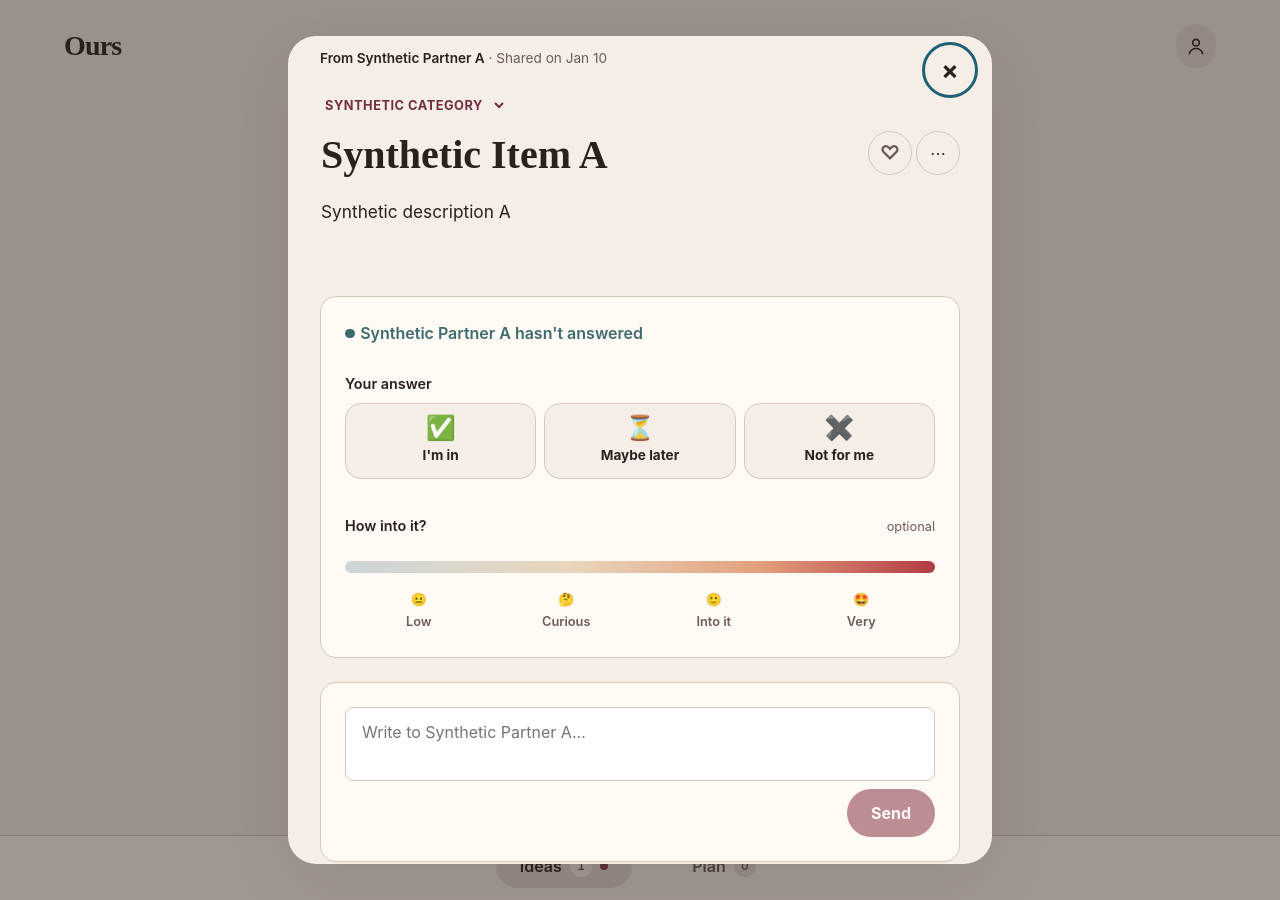
Test: header › offers the partner Remix but not Delete
What coordinates should you click on to do the following:
click the button named "More actions"
I would click on:
 (938, 153)
Its box is [916,131,960,175].
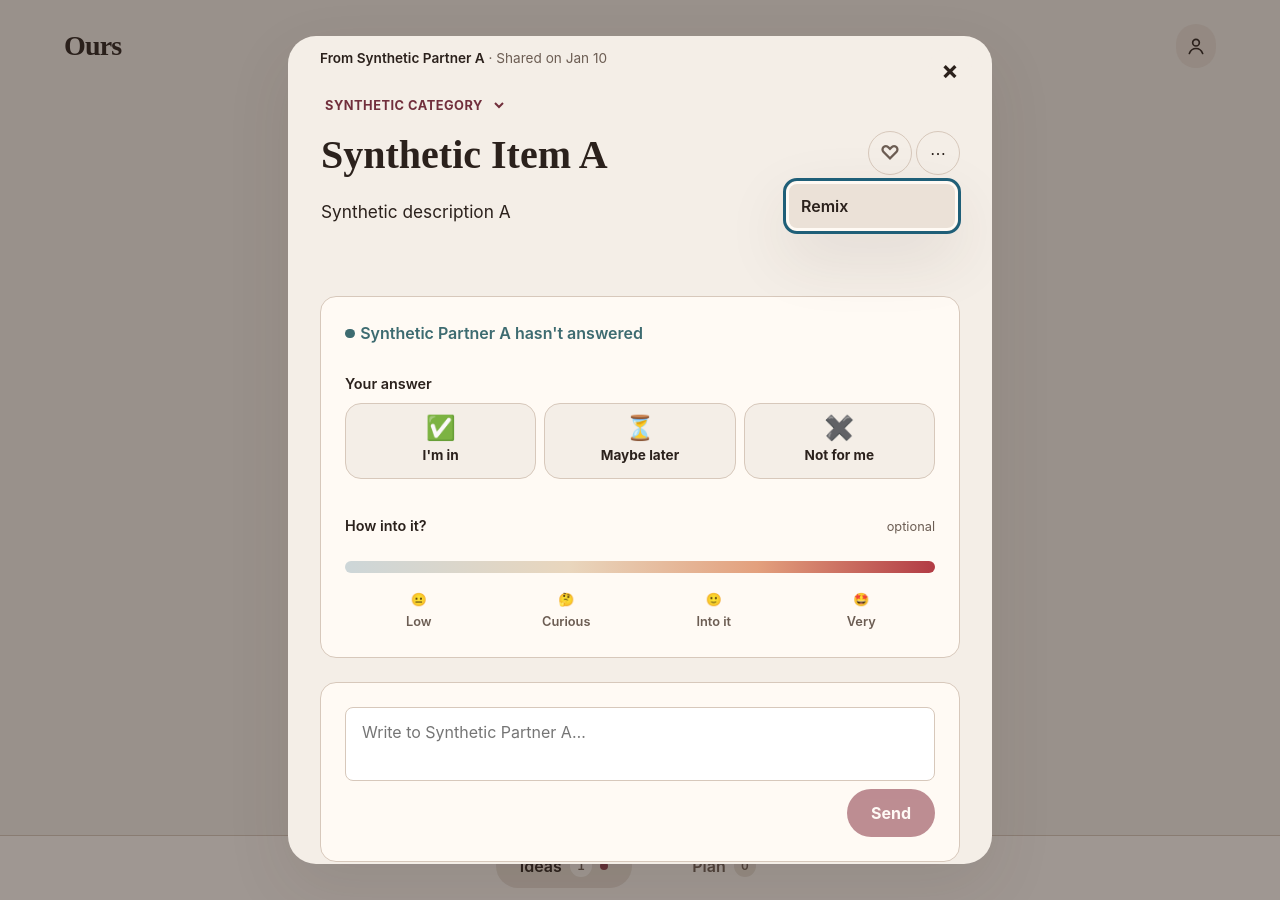
Expected: the menu items read "Remix", in this order, [789,184,955,228]
